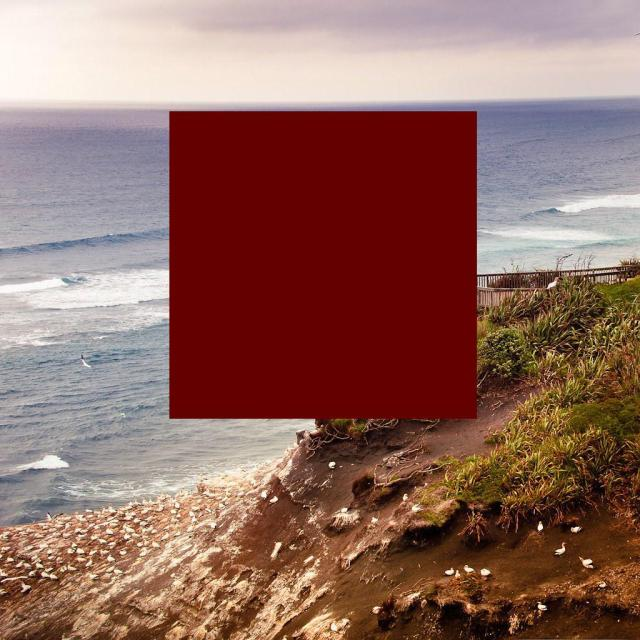RedSquare: (161, 100, 485, 430)
